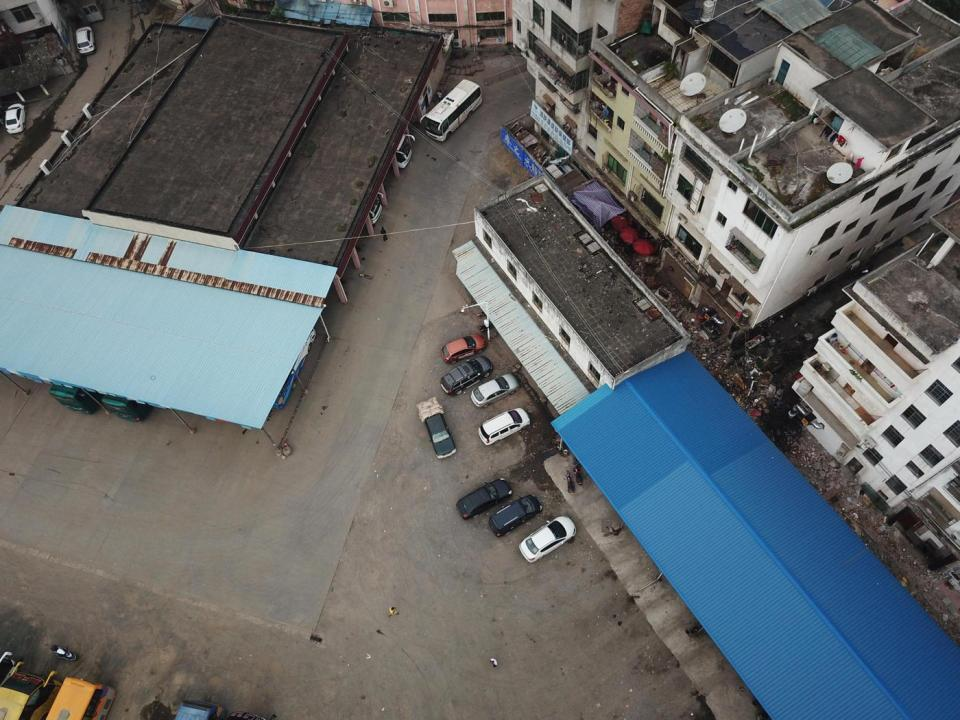bus: (100, 298, 198, 422), (48, 286, 137, 413), (259, 321, 317, 410), (419, 78, 483, 144), (296, 179, 384, 224), (330, 130, 415, 170)
car: (518, 515, 576, 563), (456, 478, 512, 520), (488, 494, 542, 537), (440, 354, 493, 395), (477, 408, 530, 446), (470, 374, 519, 407), (442, 334, 486, 362), (6, 103, 28, 134), (75, 26, 97, 56), (388, 607, 399, 618)
truck: (417, 398, 456, 459)
